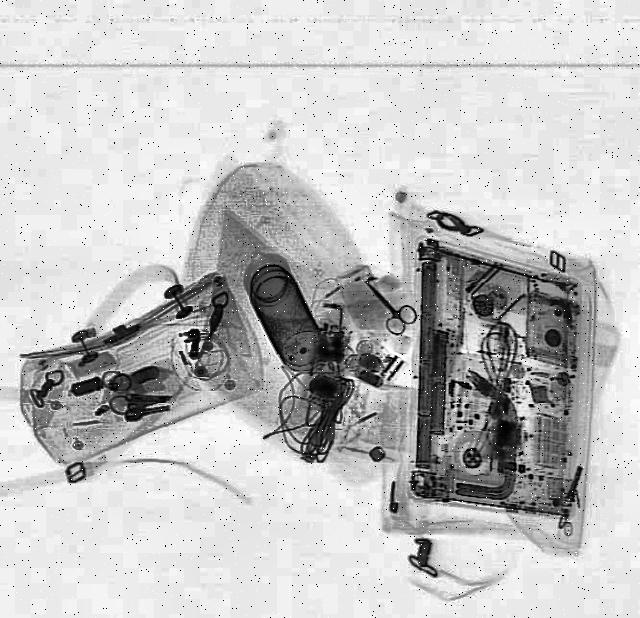Scissors: (348, 269, 422, 337)
